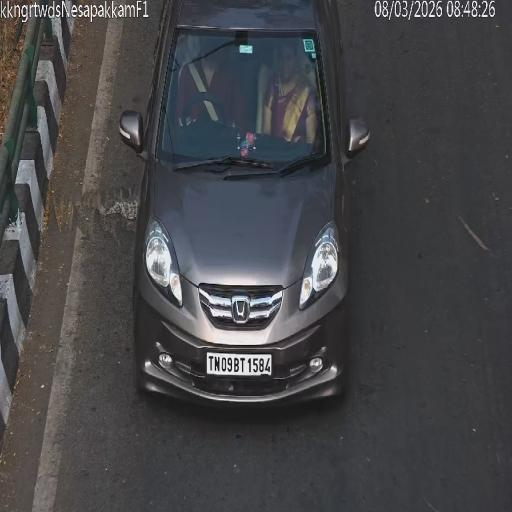person_with_seatbelt: (175, 40, 222, 126)
person_without_seatbelt: (269, 77, 313, 145)
